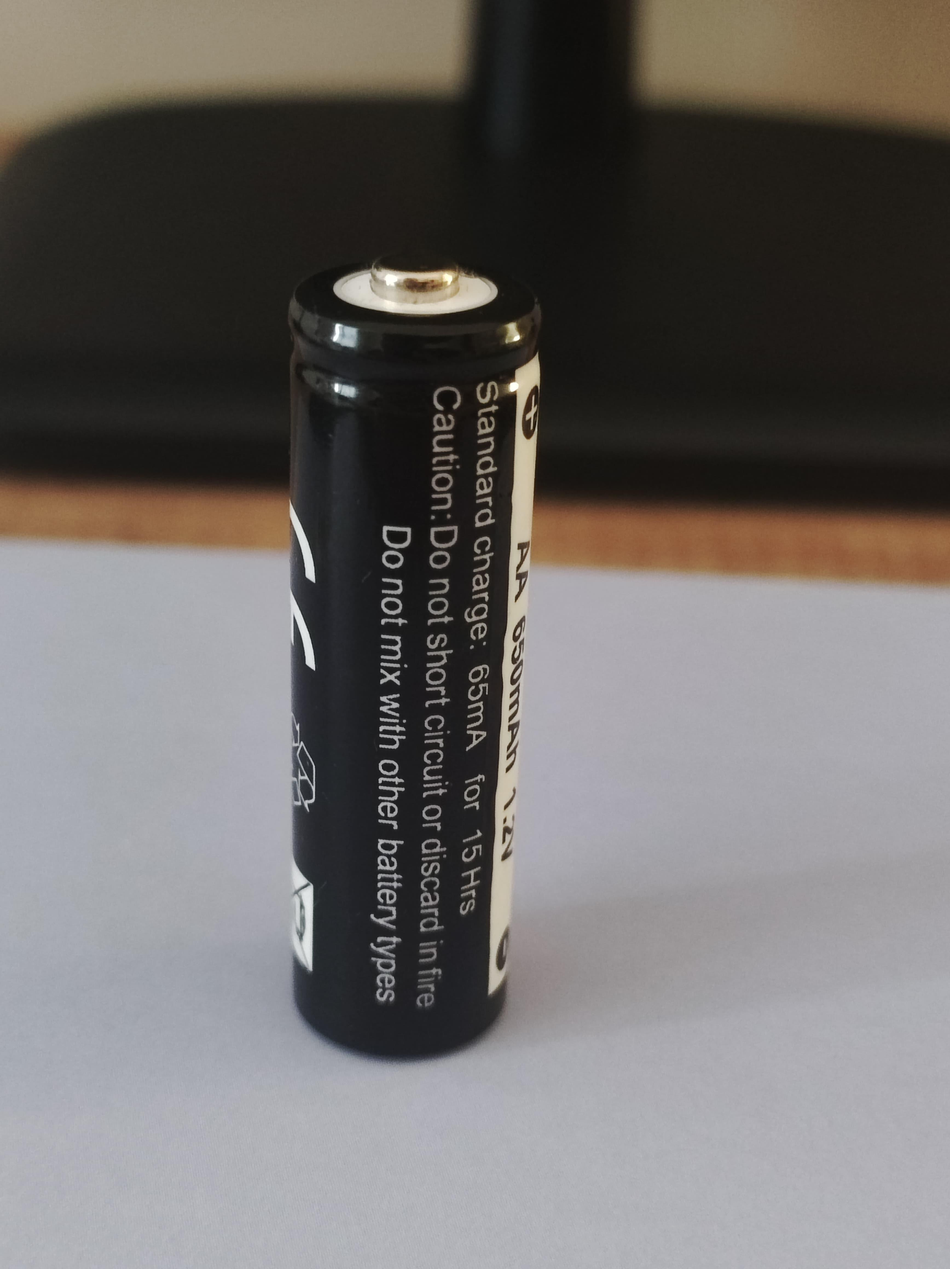AA: (285, 252, 543, 1058)
